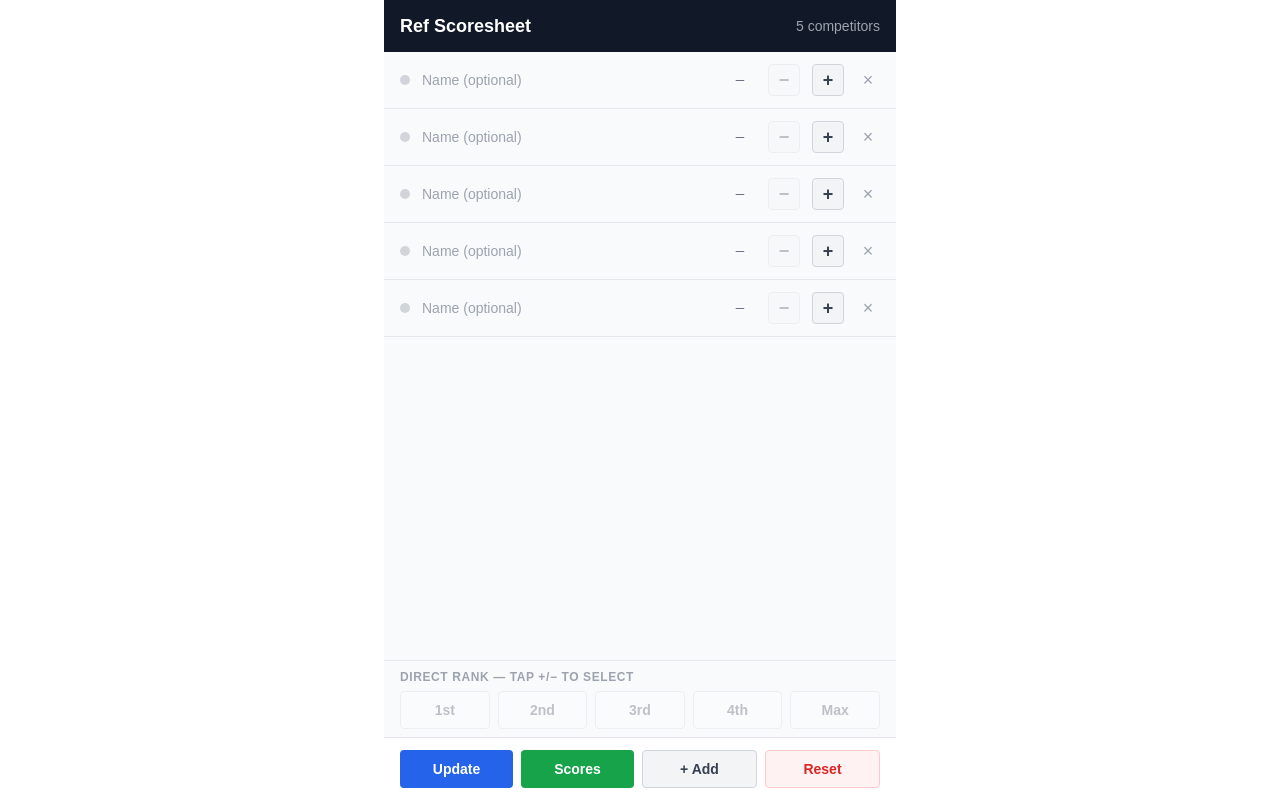
it: ScoresheetPage › Remove competitor confirm removes the row
Click the button named "remove competitor" at (868, 80), box [856,68,880,92]
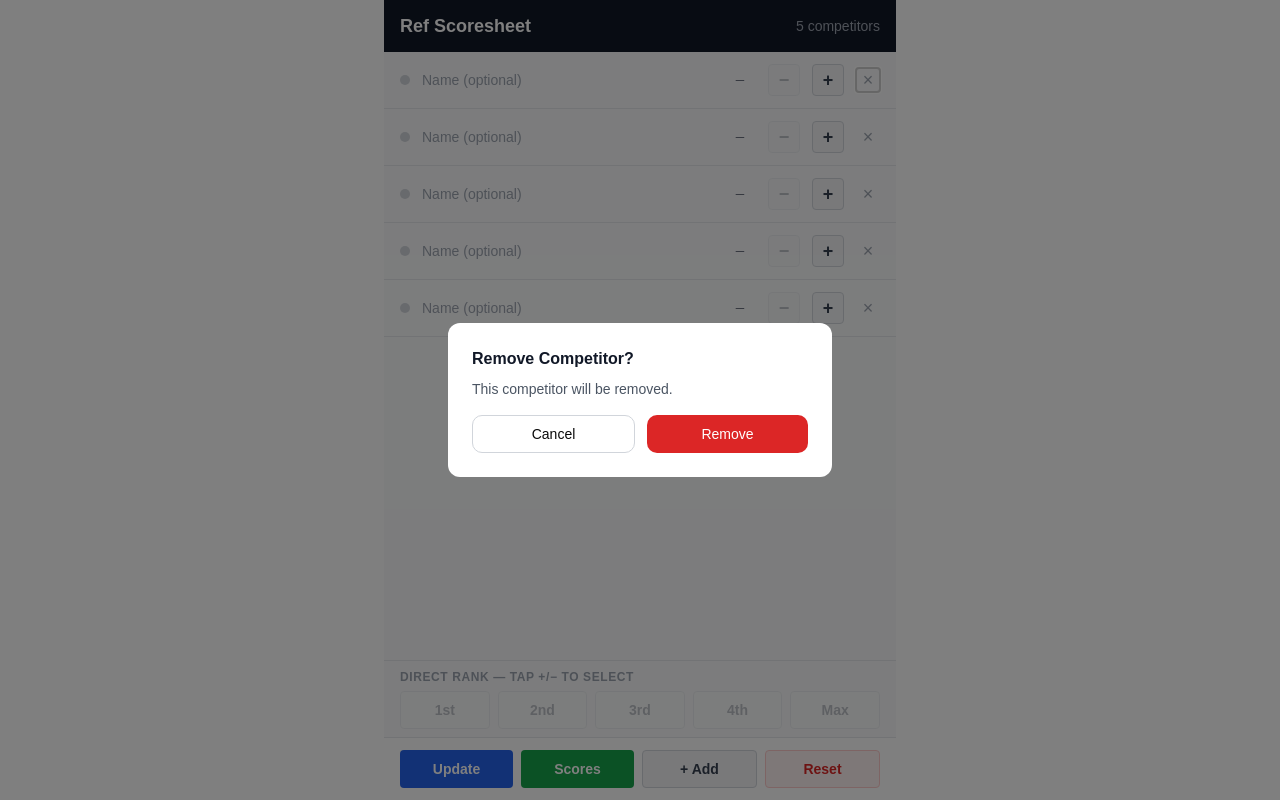
Click the button "Remove" at (728, 434), box [647,415,808,453]
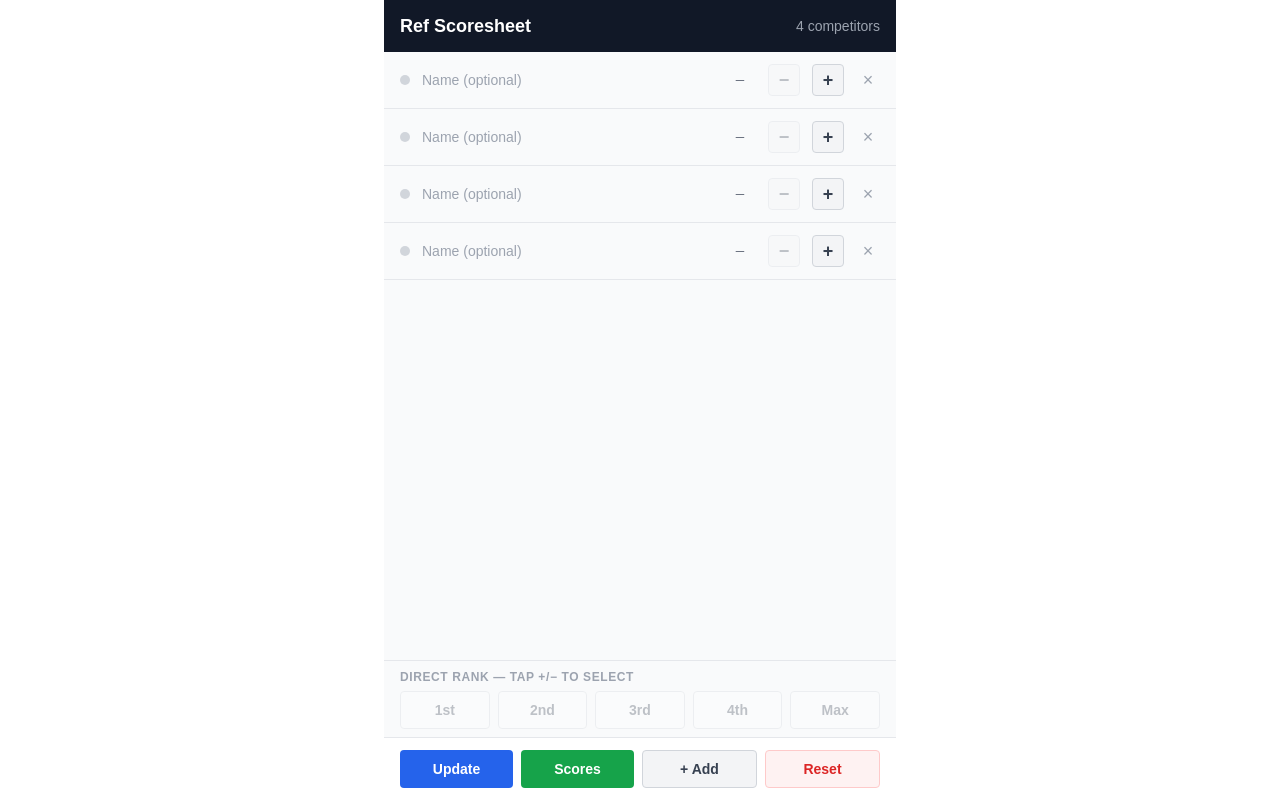
expect the number of fields with placeholder "Name (optional)" is 4: met, box [422,70,712,90]; [422,127,712,147]; [422,184,712,204]; [422,241,712,261]
